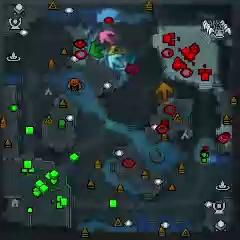x1: (99, 31, 116, 45)
x2: (108, 45, 126, 55)
x3: (107, 54, 124, 70)
x4: (89, 41, 107, 59)
x5: (155, 82, 173, 102)
